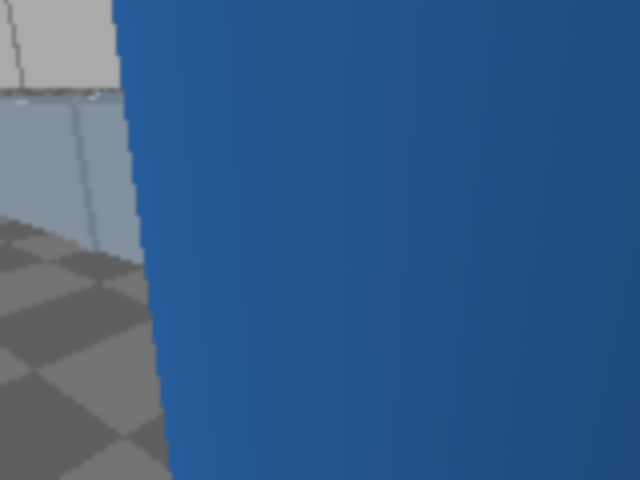goal_zone: (179, 140, 232, 146)
